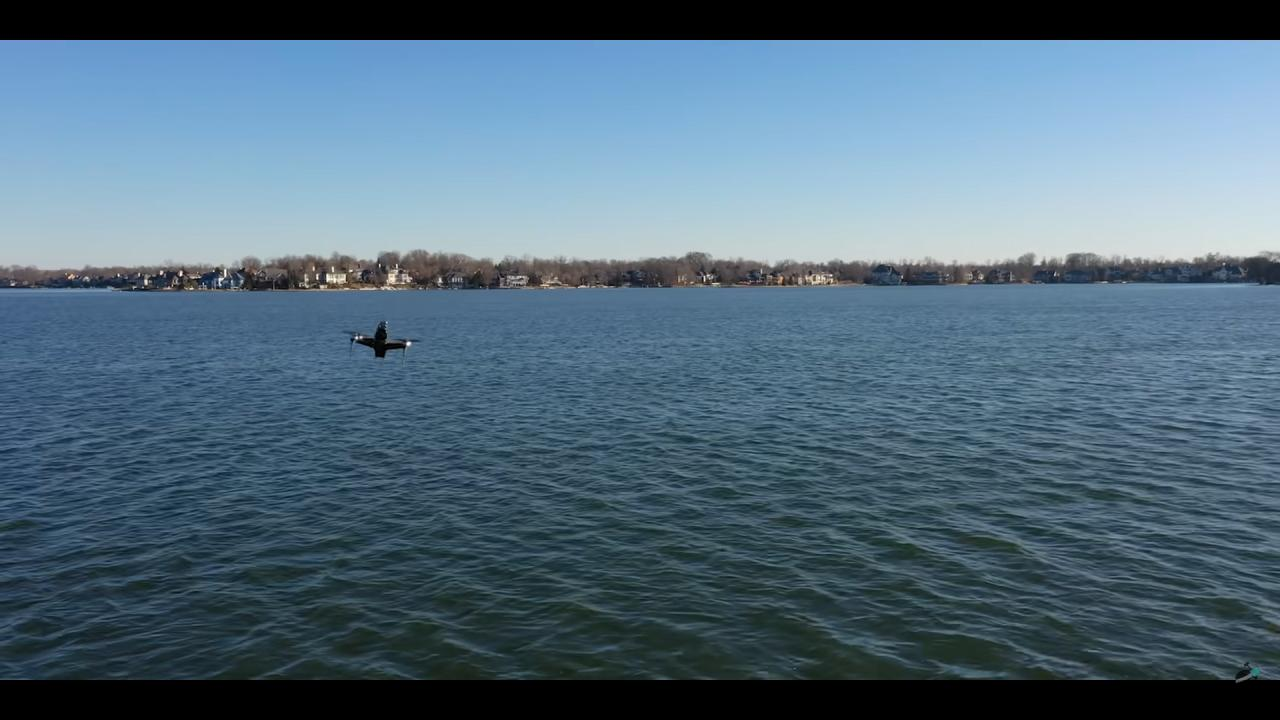Drone: (332, 314, 427, 369)
